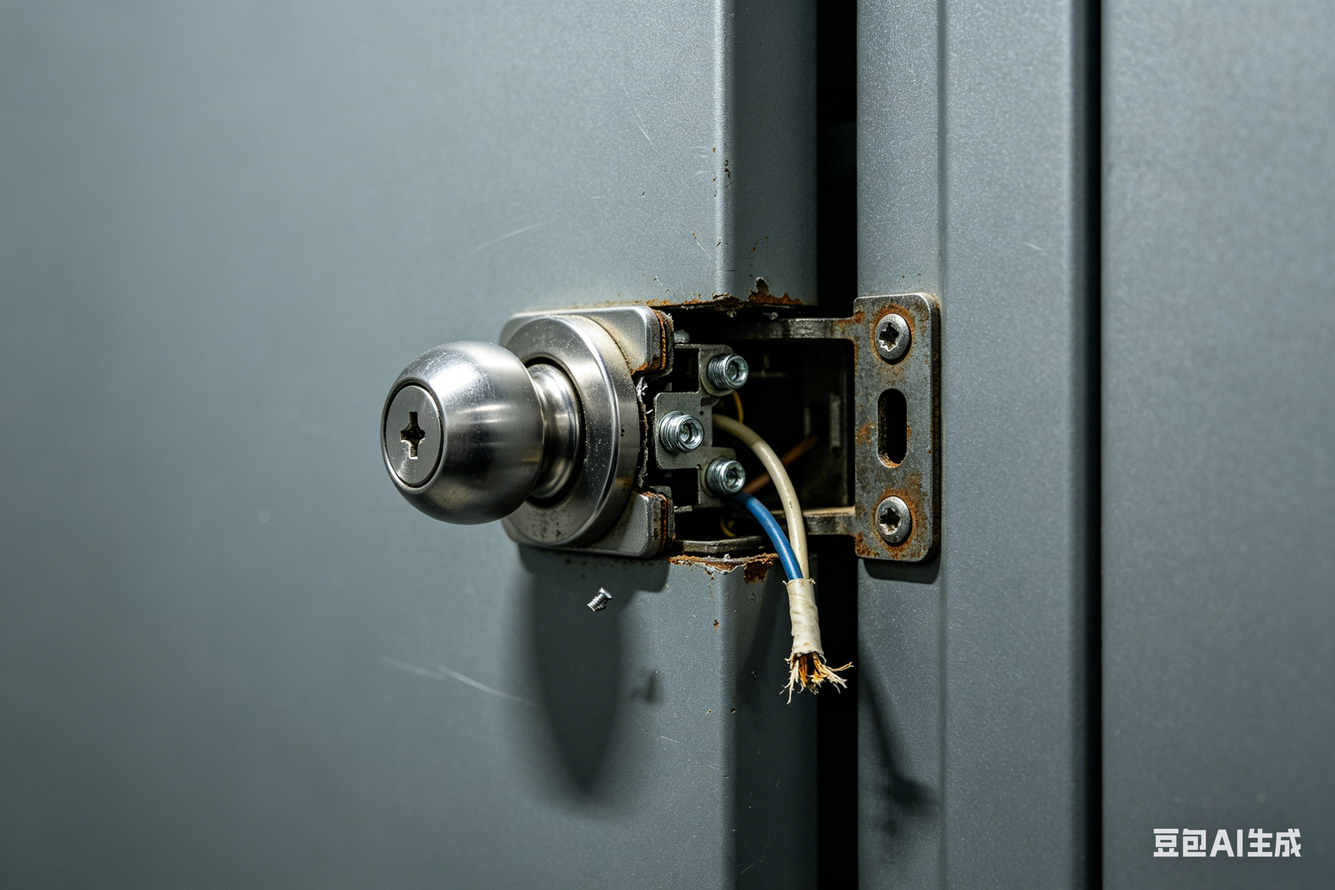BadLock: (639, 311, 853, 705)
